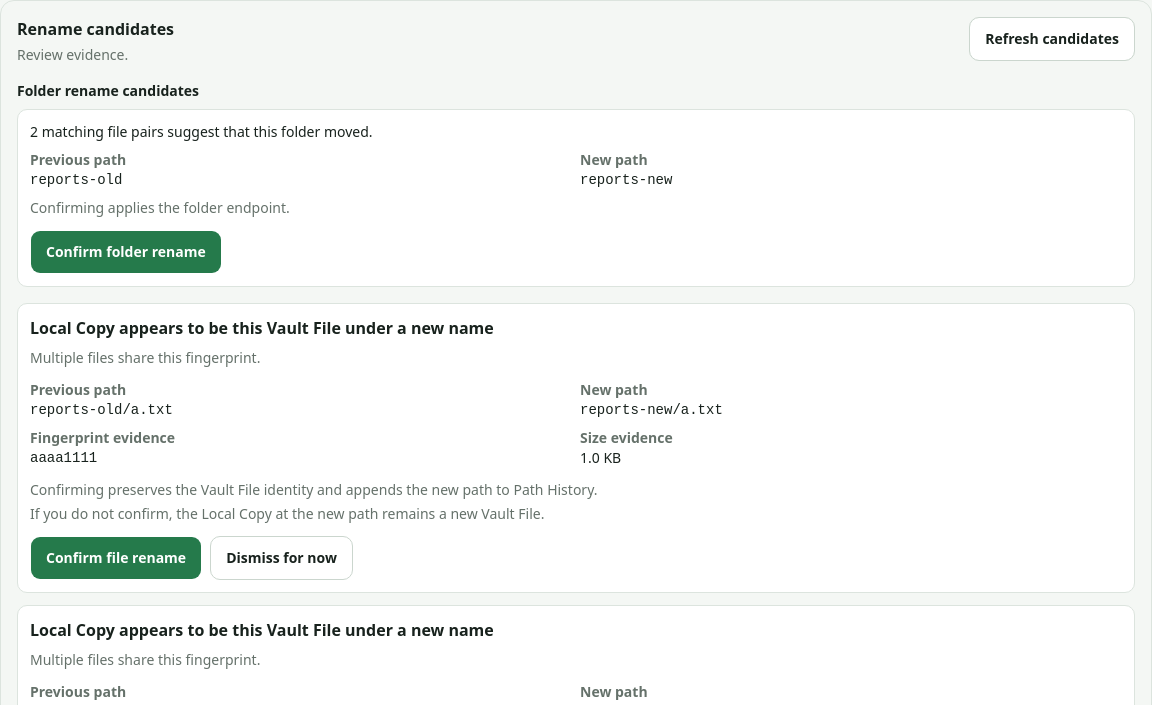
Test: RenameCandidatesPanel › shows available path, fingerprint, and size evidence and confirms a file
Check: the text "Local Copy appears to be this Vault File under a new name" is shown 2 times, box x1=30 y1=317 x2=494 y2=339; x1=30 y1=619 x2=494 y2=641
Check: the text "reports-old/a.txt" is shown, box x1=30 y1=402 x2=173 y2=418
Click the button "Confirm file rename" at (116, 558), box x1=30 y1=536 x2=202 y2=580
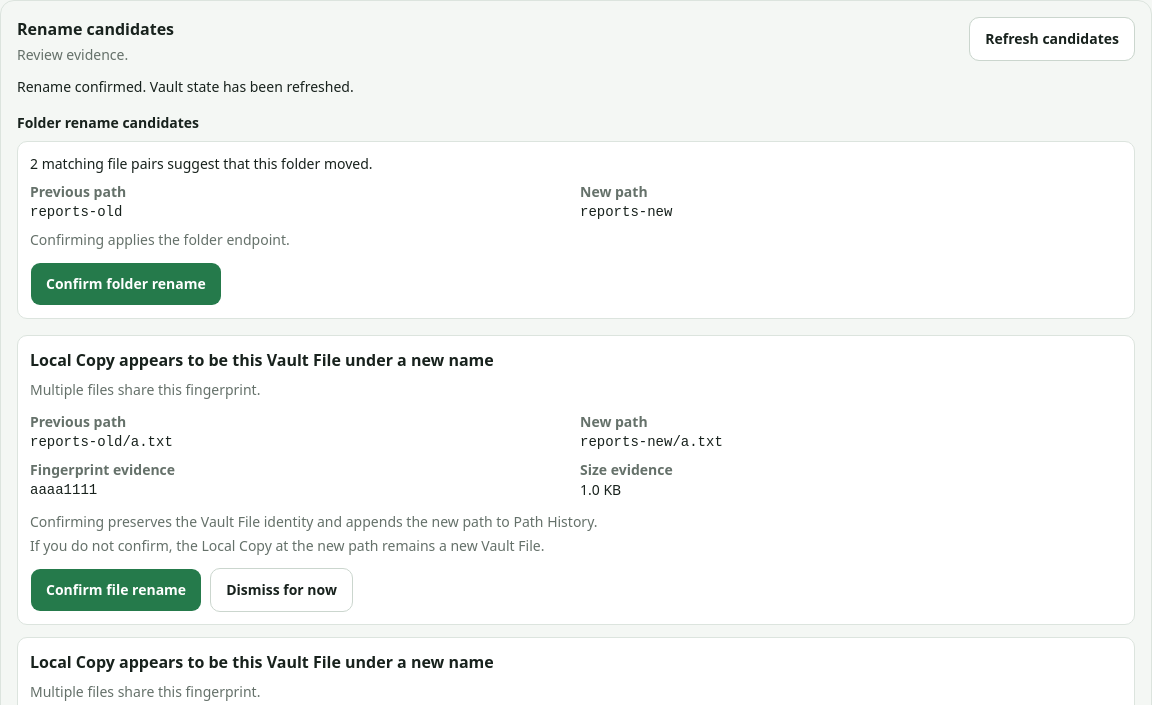
Check: the message shows "Rename confirmed", box x1=17 y1=77 x2=354 y2=96
